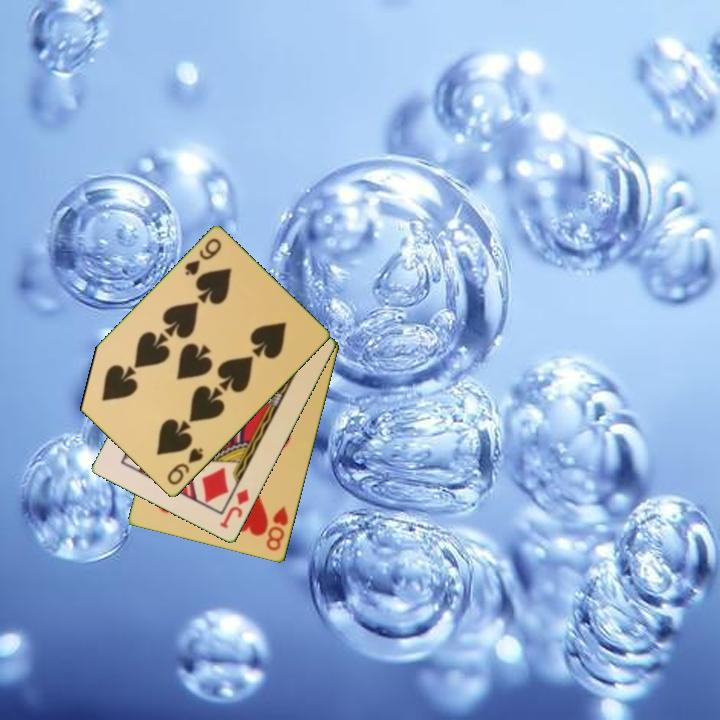8h: (263, 503, 291, 554)
9s: (181, 235, 225, 279), (163, 445, 206, 488)
Jd: (216, 485, 253, 532)
